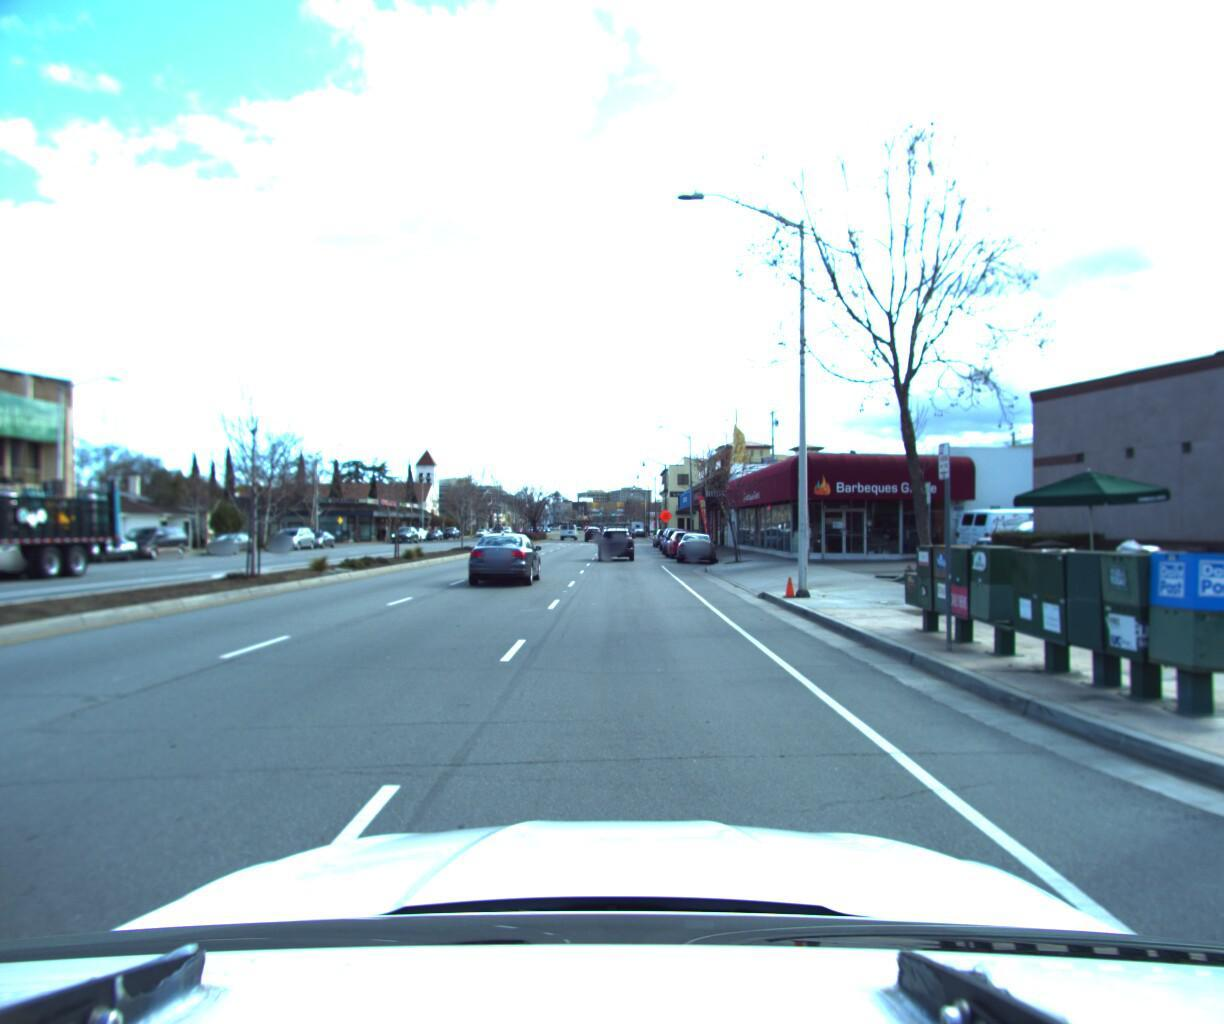car: (951, 500, 1092, 554), (468, 527, 542, 584), (113, 525, 195, 560), (58, 533, 145, 564), (677, 527, 716, 561), (204, 531, 261, 554), (268, 524, 320, 549), (597, 523, 634, 557), (665, 526, 703, 554), (299, 529, 340, 547)
